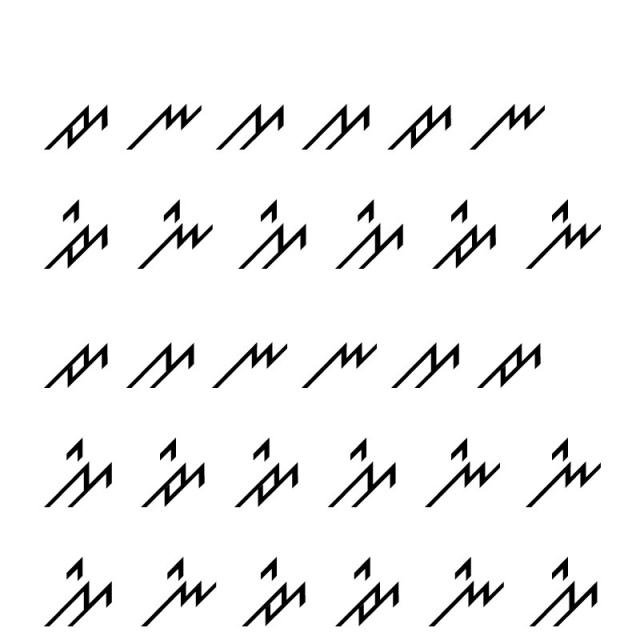ja: (34, 334, 114, 395), (36, 96, 113, 156), (382, 98, 458, 157), (474, 333, 546, 395)
ji: (34, 194, 114, 276), (324, 552, 402, 634), (134, 434, 212, 514), (228, 434, 302, 516), (237, 554, 309, 634), (429, 198, 507, 270)
nya: (122, 93, 205, 159), (471, 92, 547, 158), (210, 334, 292, 394), (303, 335, 381, 395)
nyi: (420, 430, 505, 510), (518, 434, 605, 512), (428, 549, 506, 634), (522, 197, 605, 276), (130, 200, 216, 270), (140, 557, 219, 629)
sa: (216, 92, 294, 158), (302, 96, 373, 157), (124, 338, 198, 396), (392, 338, 462, 392)
si: (40, 548, 119, 637), (35, 436, 118, 514), (234, 192, 312, 274), (529, 552, 606, 634), (332, 197, 410, 277), (328, 436, 402, 518)
